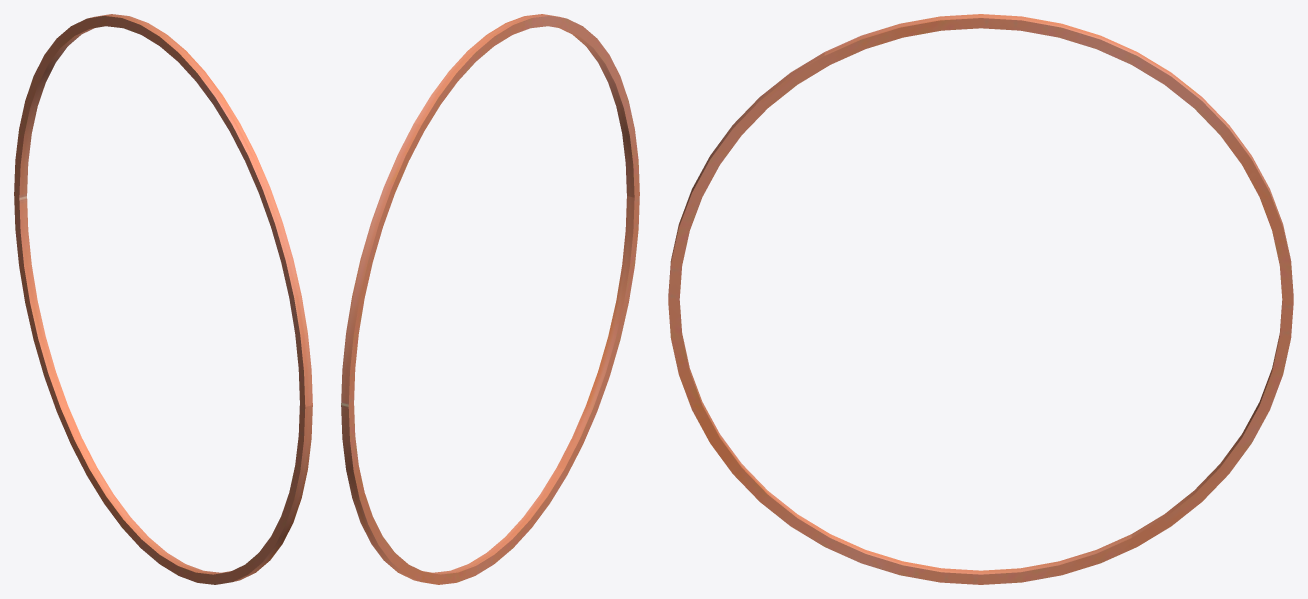
Rendered from Coil2.glb.
3 views of the same model, side by side, from view 1: azimuth 30°, elevation 25°; view 2: azimuth 150°, elevation 25°; view 3: azimuth 270°, elevation 25° (orthographic). The views are drawn at different scales.
Parts seen in each view (by area): view 1: New_HPM_Coil2_5Aug2024; view 2: New_HPM_Coil2_5Aug2024; view 3: New_HPM_Coil2_5Aug2024.
Boxes of the visible parts, <box> form: New_HPM_Coil2_5Aug2024: <box>14,14,312,584</box>; New_HPM_Coil2_5Aug2024: <box>341,14,639,584</box>; New_HPM_Coil2_5Aug2024: <box>668,14,1293,584</box>.
Size of the model in its own units: 0.01 by 0.658 by 0.658.
1 material, 1 textured.
